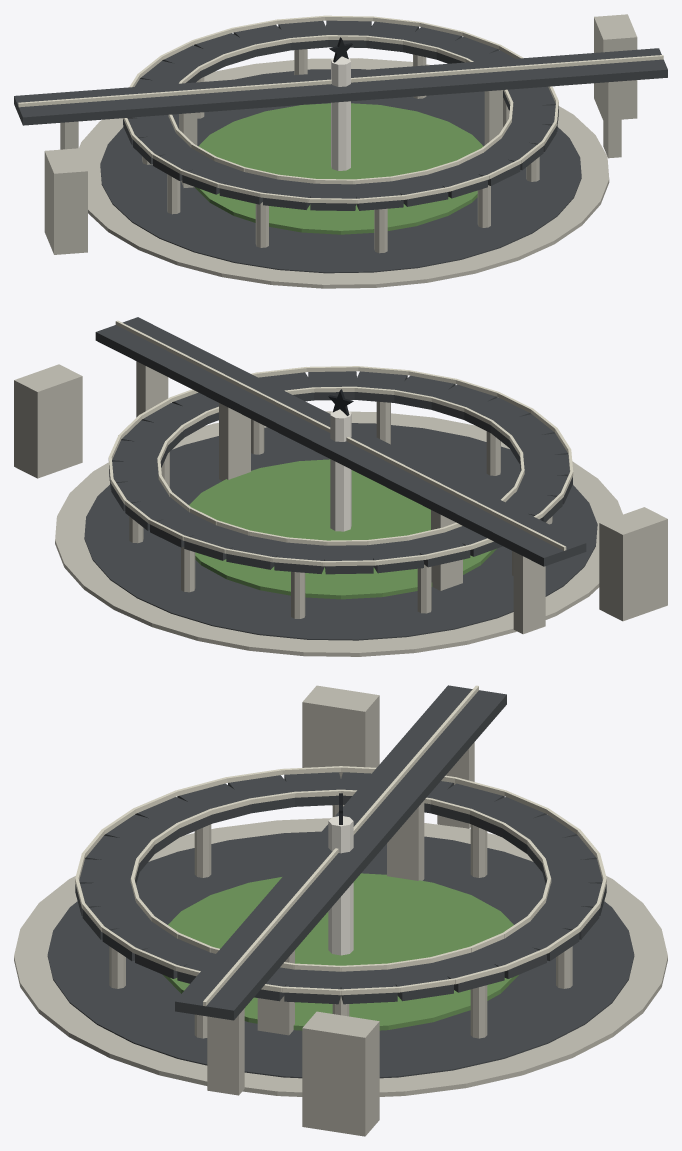
3 renders of one model, top to bottom at view 1: azimuth 30°, elevation 25°; view 2: azimuth 150°, elevation 25°; view 3: azimuth 270°, elevation 25°, orthographic. The views are drawn at different scales.
Visible parts, largest first — view 1: circle_asphalt, circle_concrete, circle_grass, circle_lane, circle_white; view 2: circle_asphalt, circle_concrete, circle_grass, circle_lane, circle_white; view 3: circle_asphalt, circle_concrete, circle_grass, circle_lane, circle_white.
Part boxes in pixels (x1,y1,x2,y2): circle_asphalt: [14, 20, 667, 273]; circle_concrete: [44, 14, 637, 288]; circle_grass: [194, 103, 483, 234]; circle_lane: [18, 15, 663, 203]; circle_white: [331, 56, 350, 170]; circle_asphalt: [84, 317, 597, 640]; circle_concrete: [14, 361, 667, 656]; circle_grass: [189, 459, 496, 599]; circle_lane: [108, 320, 573, 566]; circle_white: [330, 409, 351, 531]; circle_asphalt: [47, 685, 634, 1078]; circle_concrete: [14, 685, 667, 1136]; circle_grass: [163, 873, 518, 1030]; circle_lane: [75, 685, 606, 1006]; circle_white: [328, 816, 353, 955].
Bounding box in the file's own units: 199 × 44 × 156.
